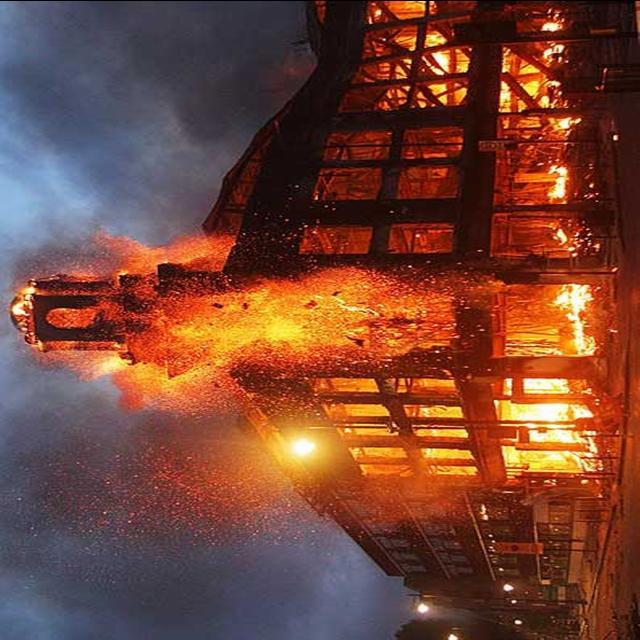Fire: (287, 0, 640, 481), (17, 224, 285, 408)
